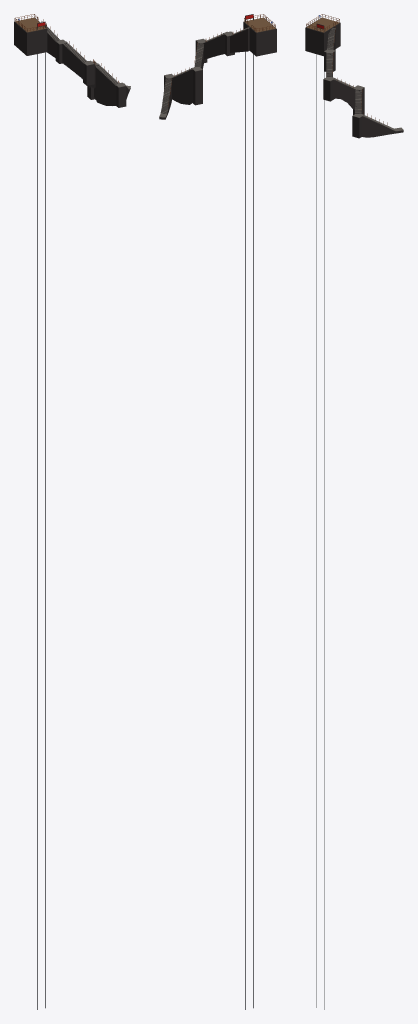
Rendered from SM_Volcano_Summit.fbx.
3 views of the same model, side by side, from view 1: azimuth 30°, elevation 25°; view 2: azimuth 210°, elevation 25°; view 3: azimuth 330°, elevation 25° (orthographic).
Parts seen in each view (by area): view 1: SM_Volcano_Summit; view 2: SM_Volcano_Summit; view 3: SM_Volcano_Summit.
Boxes of the visible parts, bbox=[...] form: SM_Volcano_Summit: bbox=[14, 14, 130, 1009]; SM_Volcano_Summit: bbox=[159, 14, 276, 1009]; SM_Volcano_Summit: bbox=[305, 14, 403, 1009].
Size of the model in its own units: 32.93 by 306 by 21.04.
